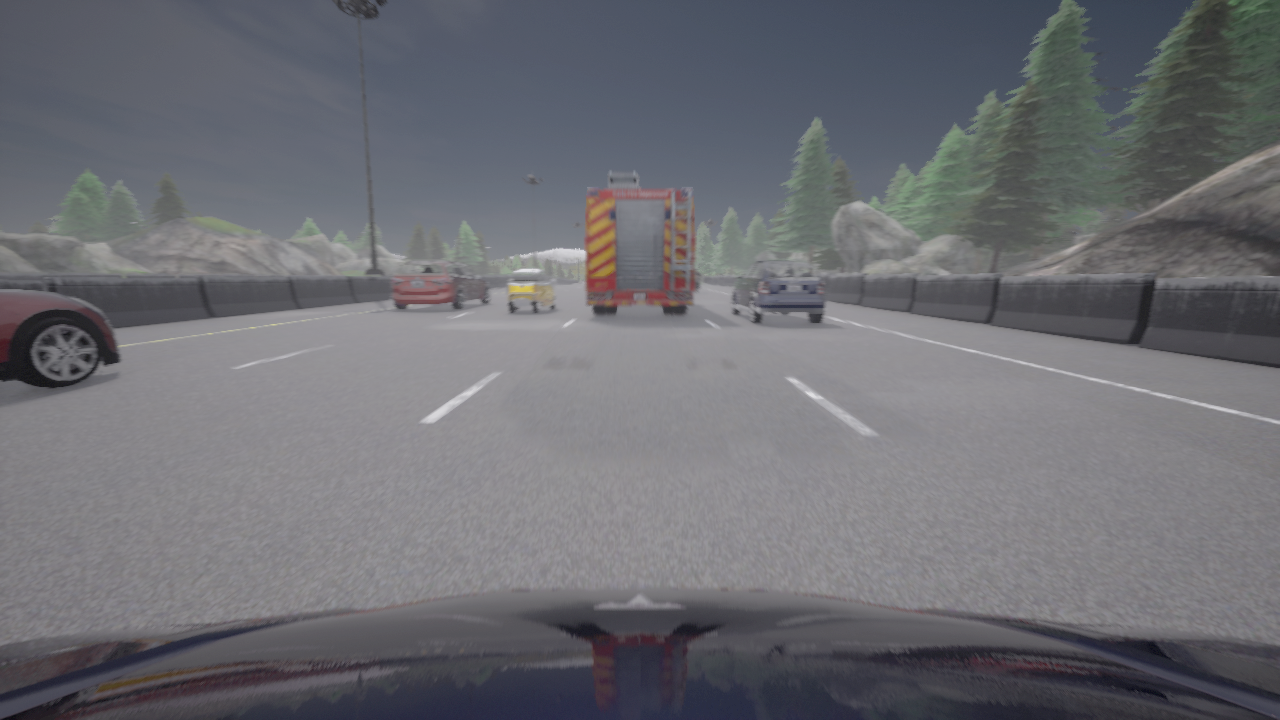cyclist: (0, 588, 1279, 719), (586, 171, 694, 314), (731, 260, 826, 324), (391, 260, 490, 309), (507, 268, 555, 313), (694, 277, 700, 293)
